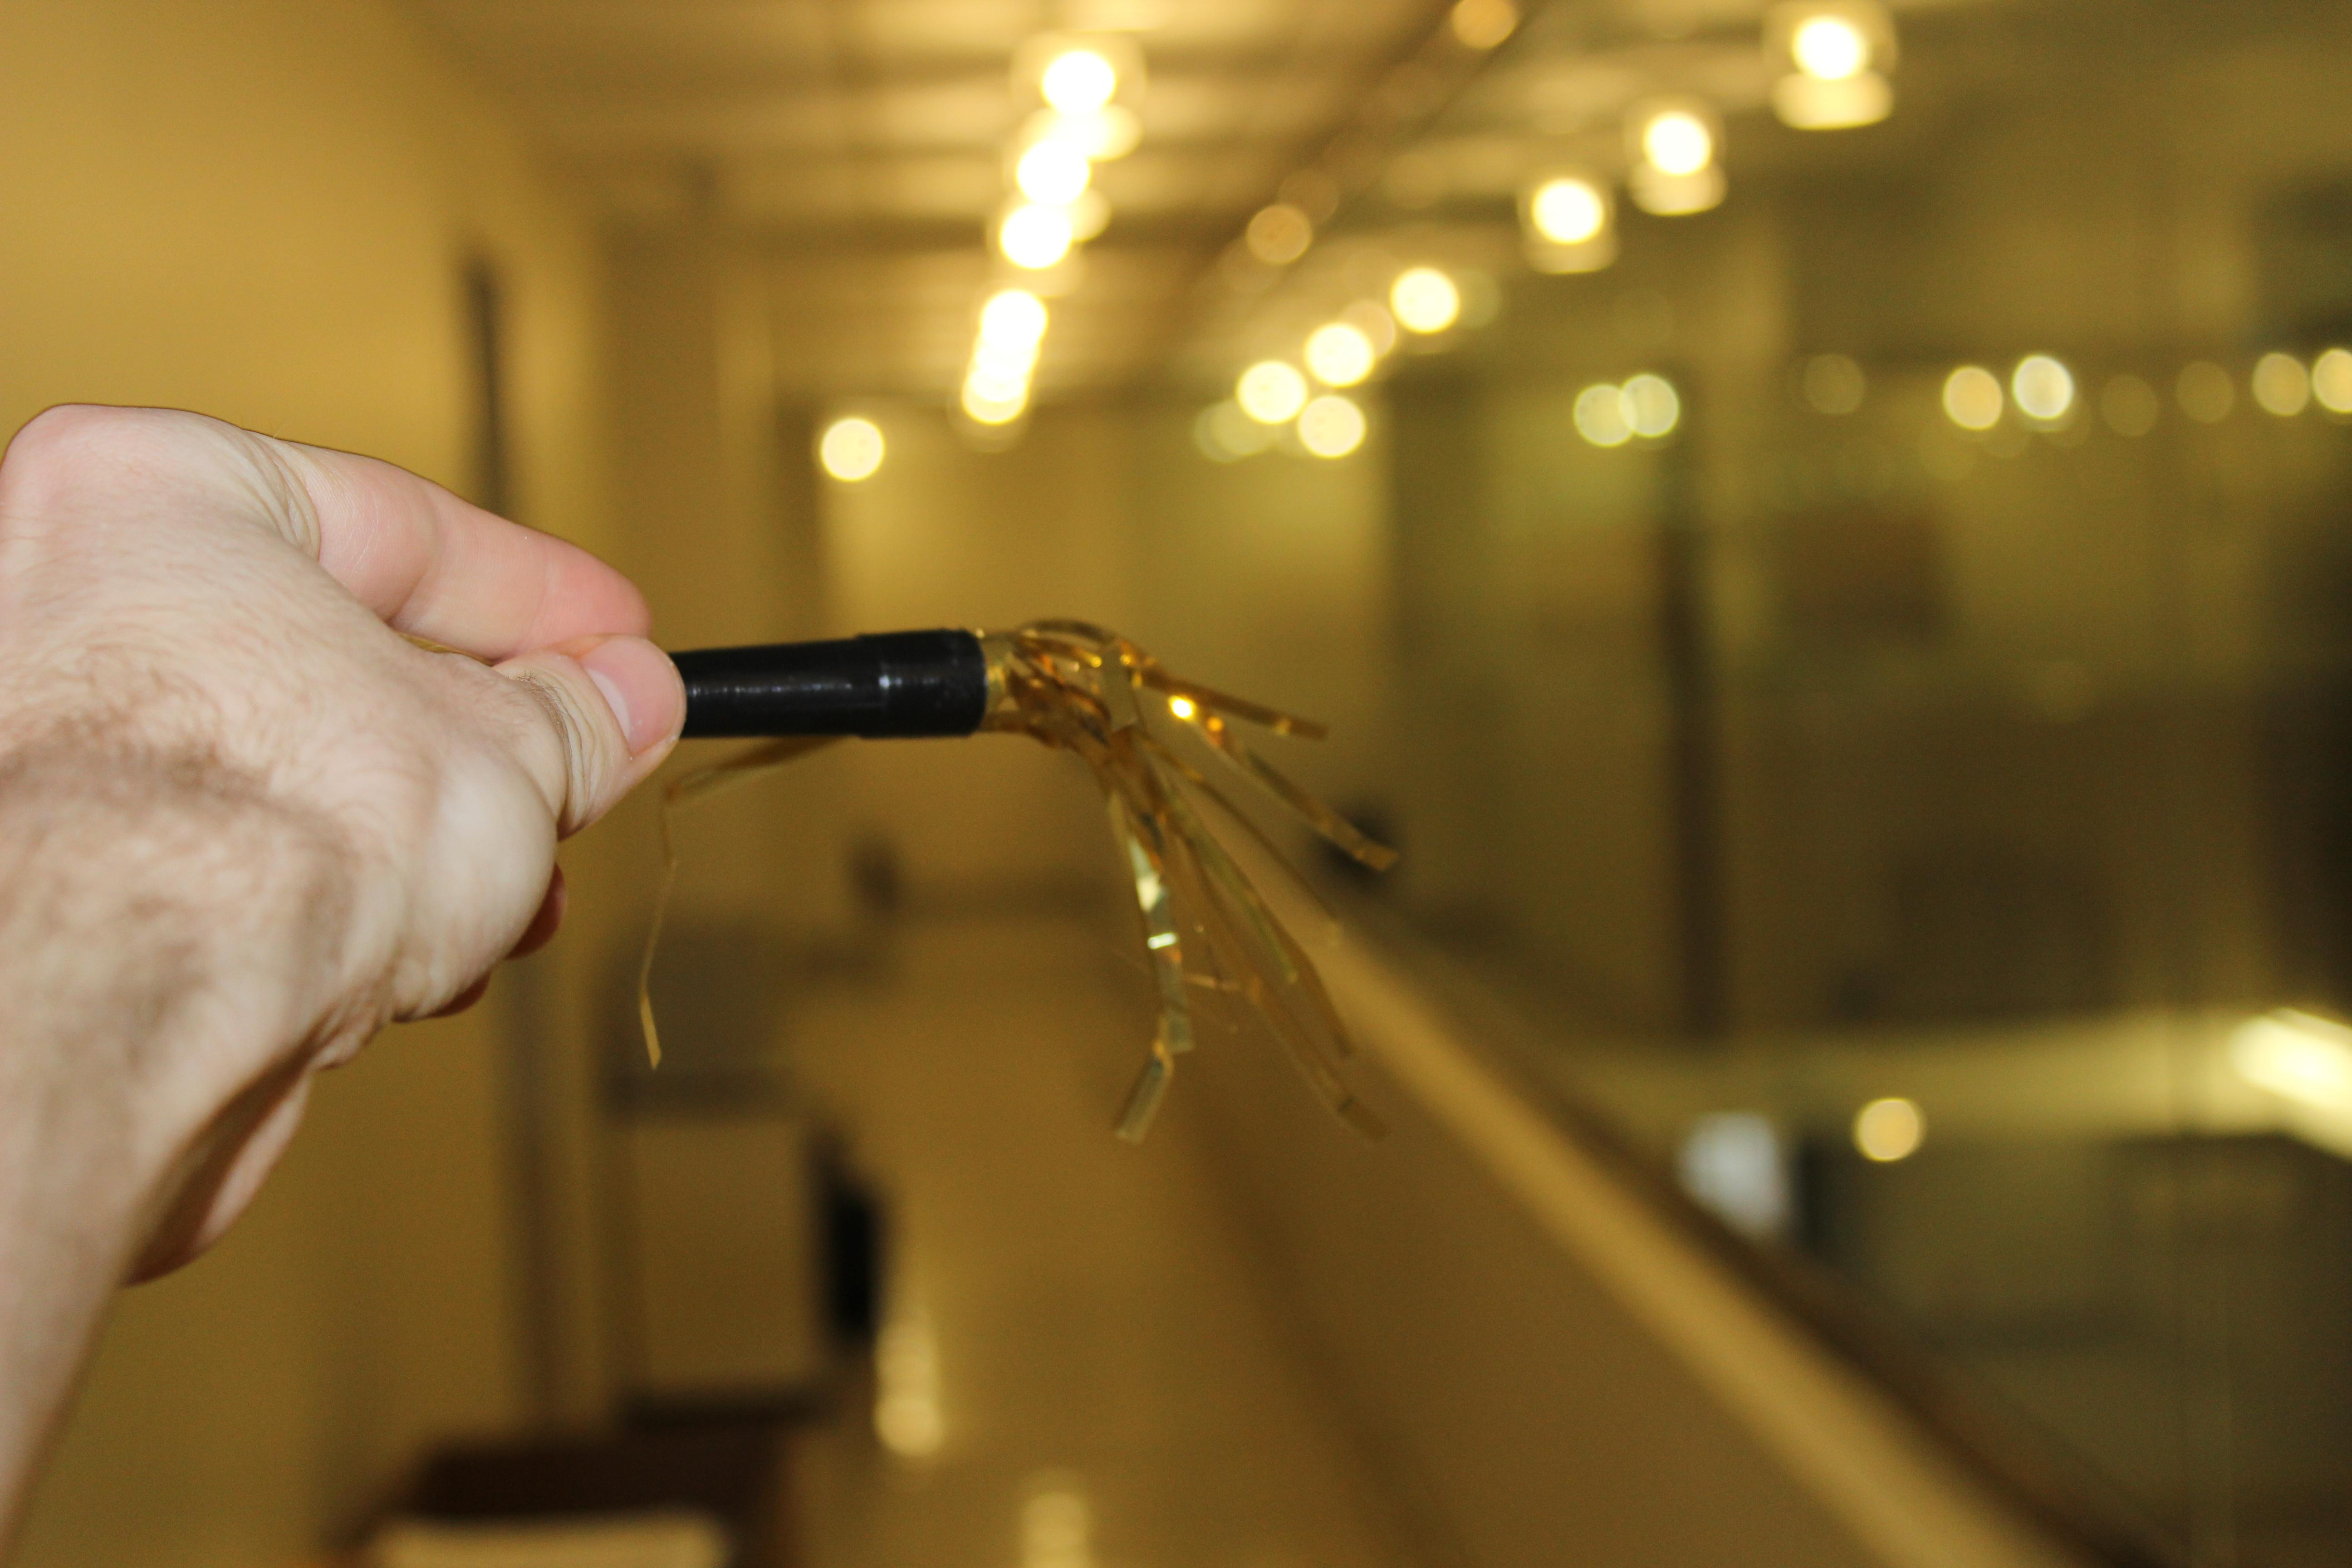partyFavor: (602, 563, 1449, 1199)
